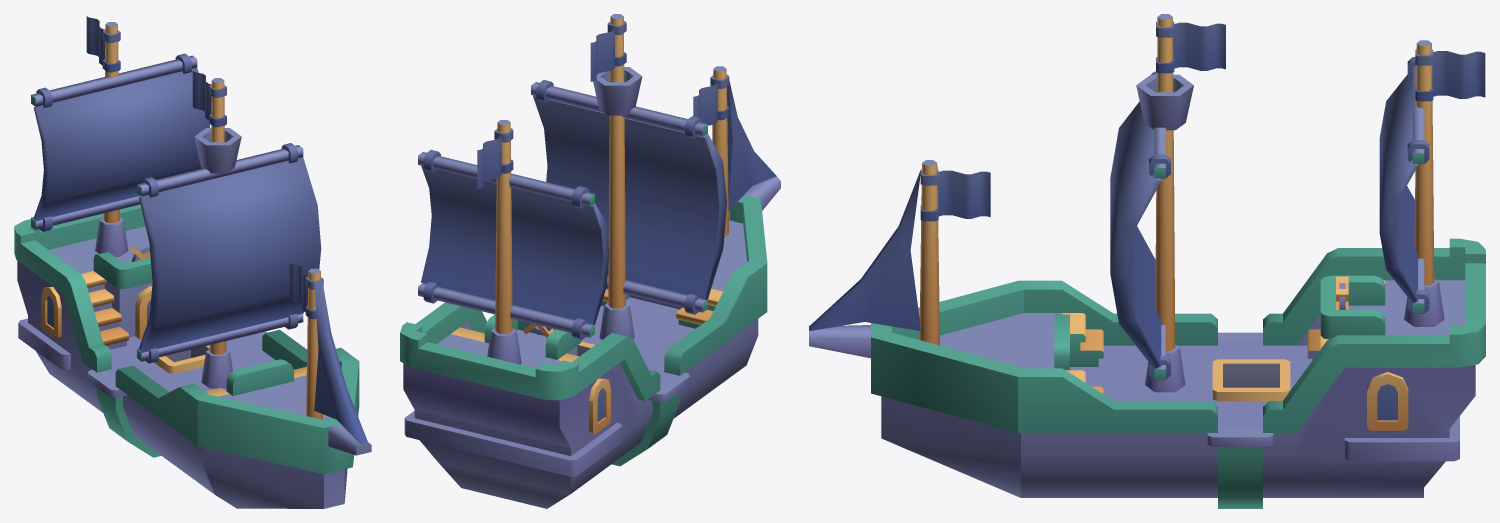
File: ship-large.fbx
3 renders of one model, left to right at view 1: azimuth 30°, elevation 25°; view 2: azimuth 150°, elevation 25°; view 3: azimuth 270°, elevation 25°, orthographic. The views are drawn at different scales.
Visible parts, largest first — view 1: ship-large, sail-a, sail-b, flag-b, flag-c, flag-a; view 2: ship-large, sail-a, sail-b, flag-b, flag-c, flag-a; view 3: ship-large, sail-a, sail-b, flag-c, flag-a, flag-b.
Part boxes in pixels (x1,y1,x2,y2): ship-large: (14,22,371,508); sail-a: (137,143,321,363); sail-b: (31,53,210,231); flag-b: (192,70,226,127); flag-c: (86,16,120,72); flag-a: (289,262,323,319); ship-large: (400,14,780,508); sail-a: (531,80,726,314); sail-b: (418,150,609,339); flag-b: (590,21,626,81); flag-c: (477,128,513,189); flag-a: (693,75,729,125); ship-large: (809,14,1485,508); sail-a: (1110,71,1170,379); sail-b: (1379,57,1429,313); flag-c: (1415,49,1485,101); flag-a: (920,169,990,221); flag-b: (1156,21,1225,73).
Size of the model in its own units: 480 by 996 by 1310.
